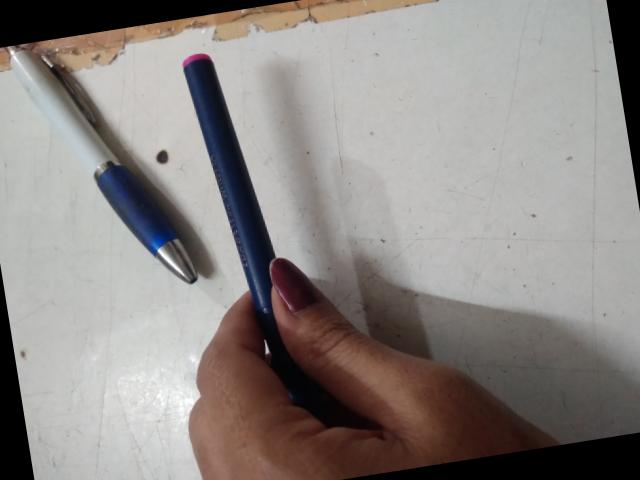PEN: (91, 174, 466, 366)
